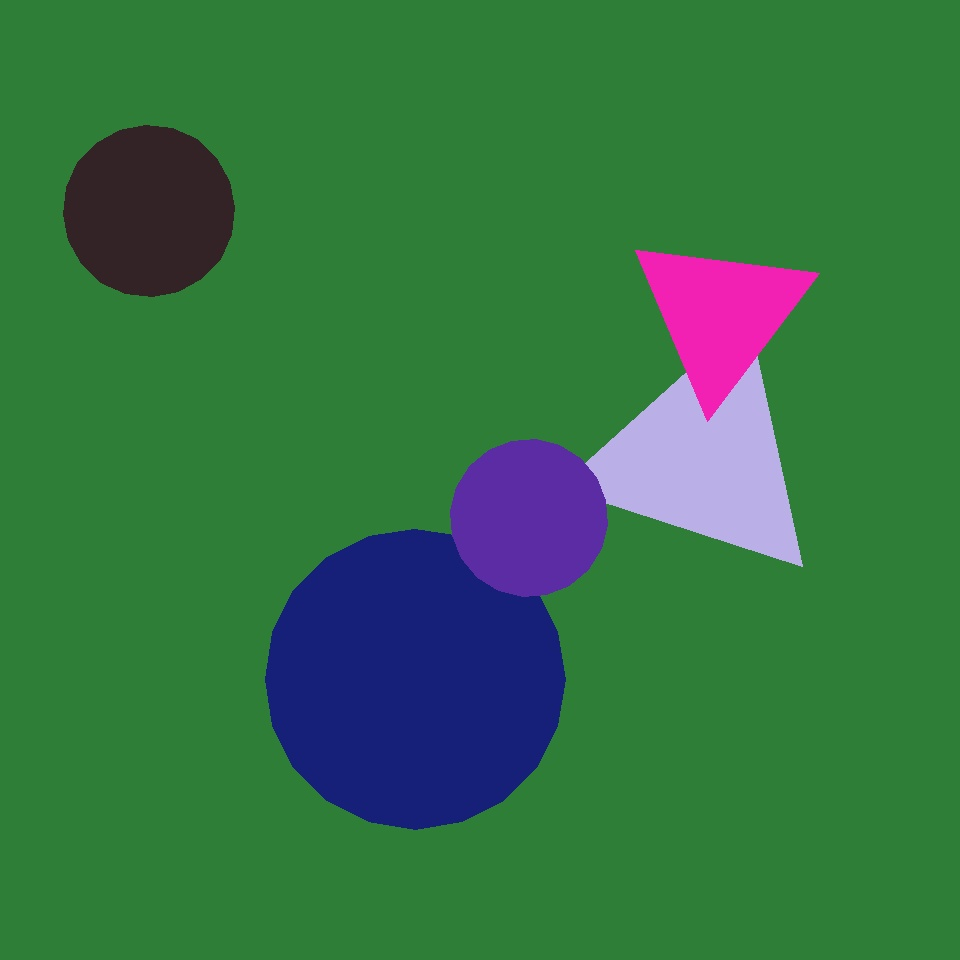circle: (581, 332, 825, 582), (629, 230, 813, 400)
triangle: (265, 529, 565, 829), (64, 126, 234, 296), (450, 439, 608, 596)
